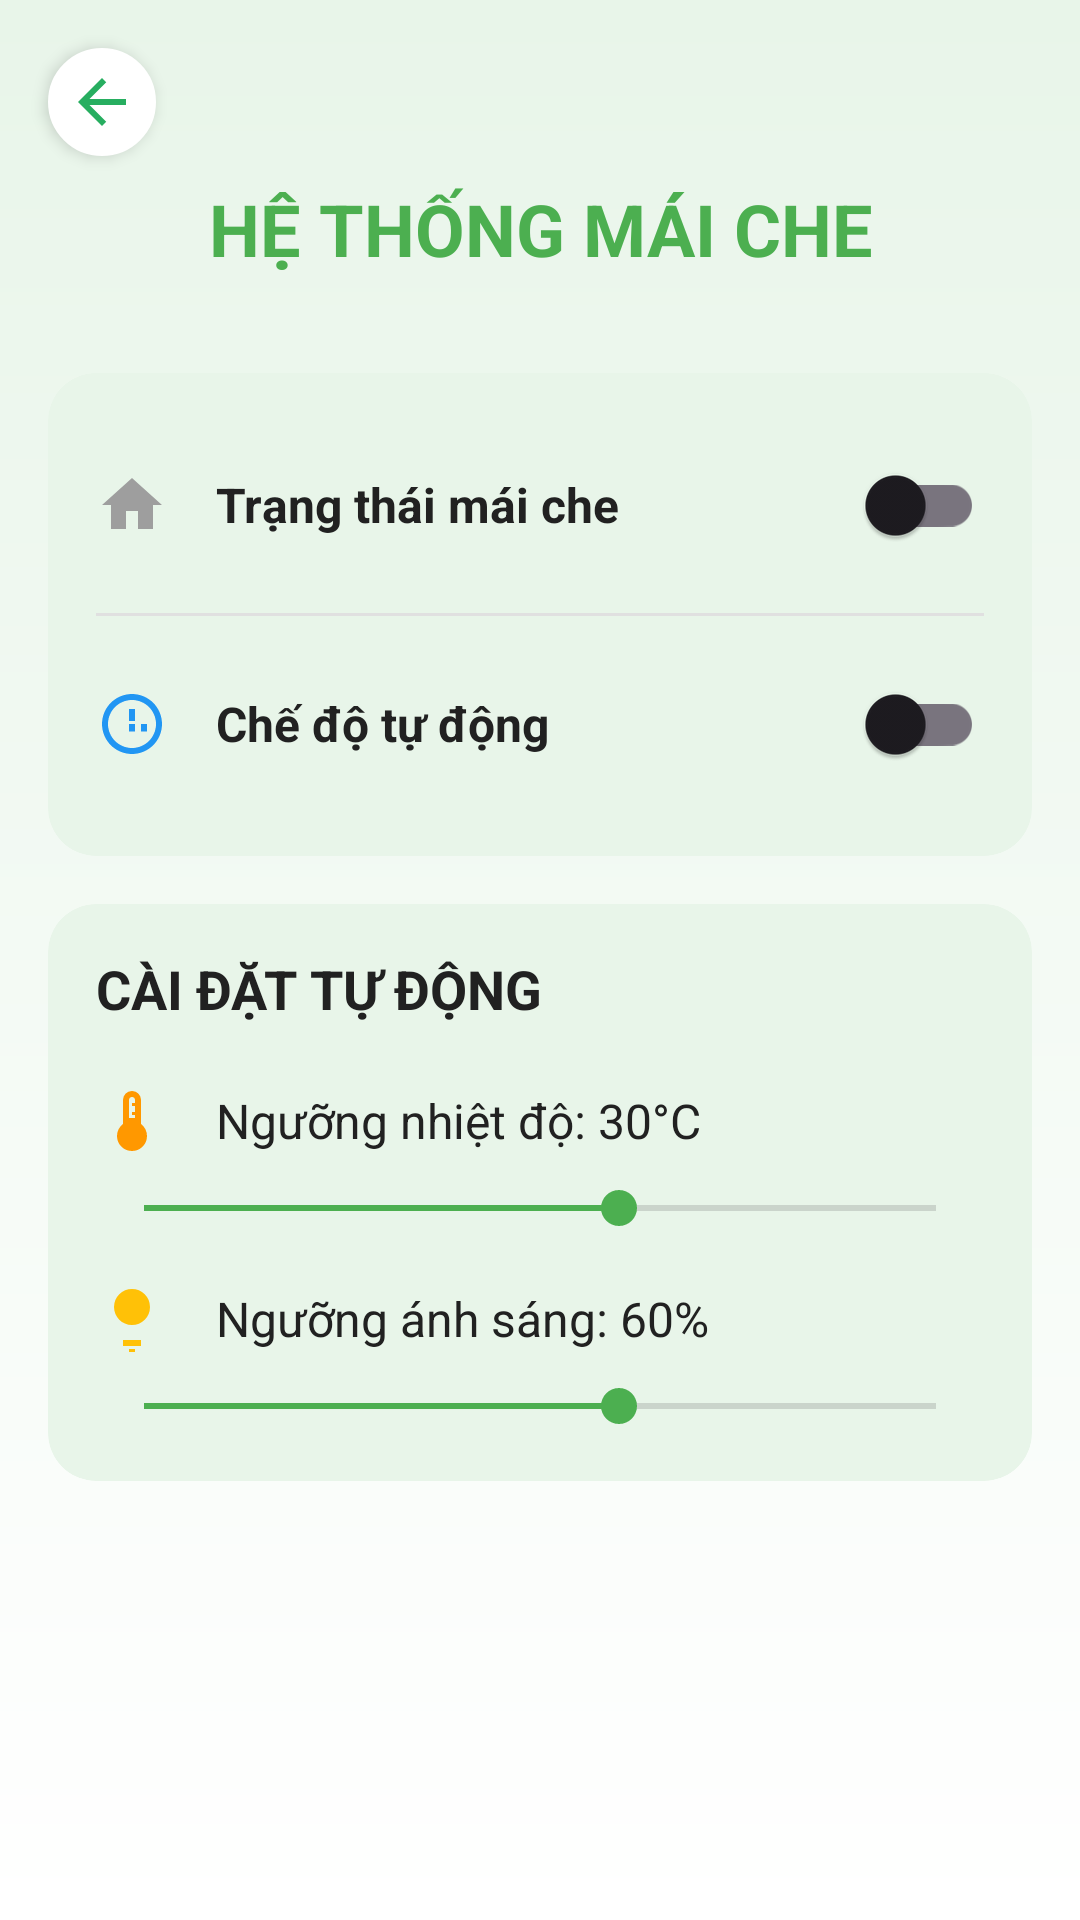

Icons on this 1080*1920 Android screen, each with the point to tap as point (x, y):
clock: point (132, 724)
Quay lại: point (102, 102)
temperature: point (132, 1121)
